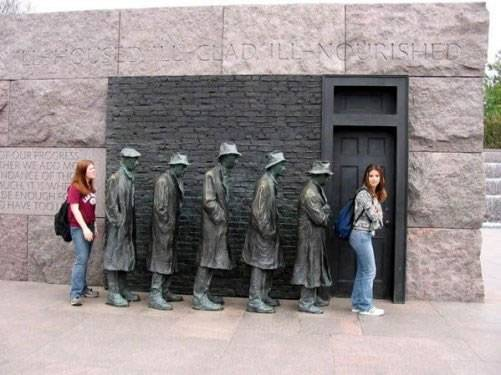person: (337, 156, 396, 295), (46, 144, 102, 272)
